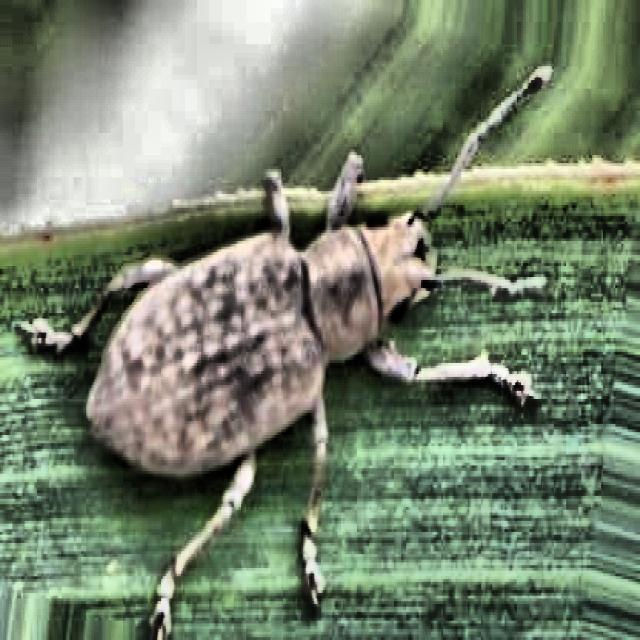Stink bug: (61, 98, 537, 575)
